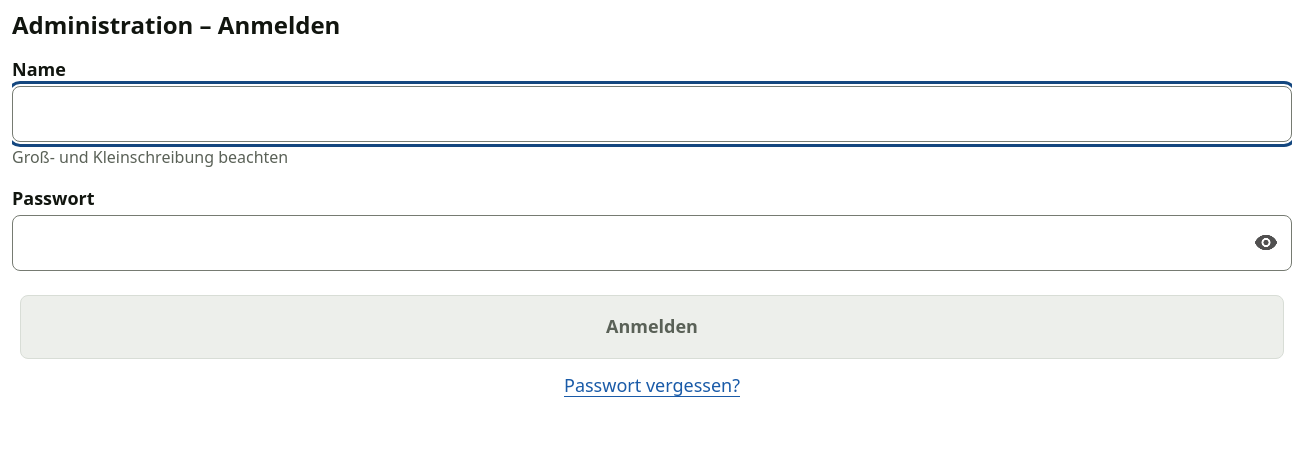
Test: AdminAnmeldung › Fehler › 401 ADMIN_PASSWORT_FALSCH: Text im Kasten, Passwort leer, Name bleibt, Fokus im Passwort
Type "Beispieladmin" into the field with test id "admin-name" at [652, 114], box [12, 86, 1292, 142]
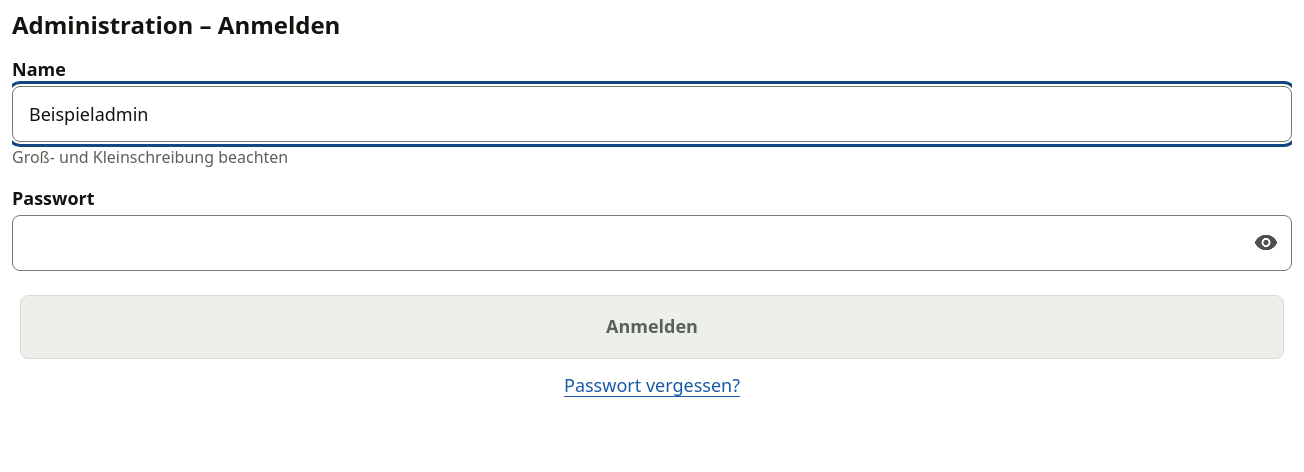
Type "falsches-passwort" into the password field with test id "admin-passwort" at [652, 243], box [12, 215, 1292, 271]
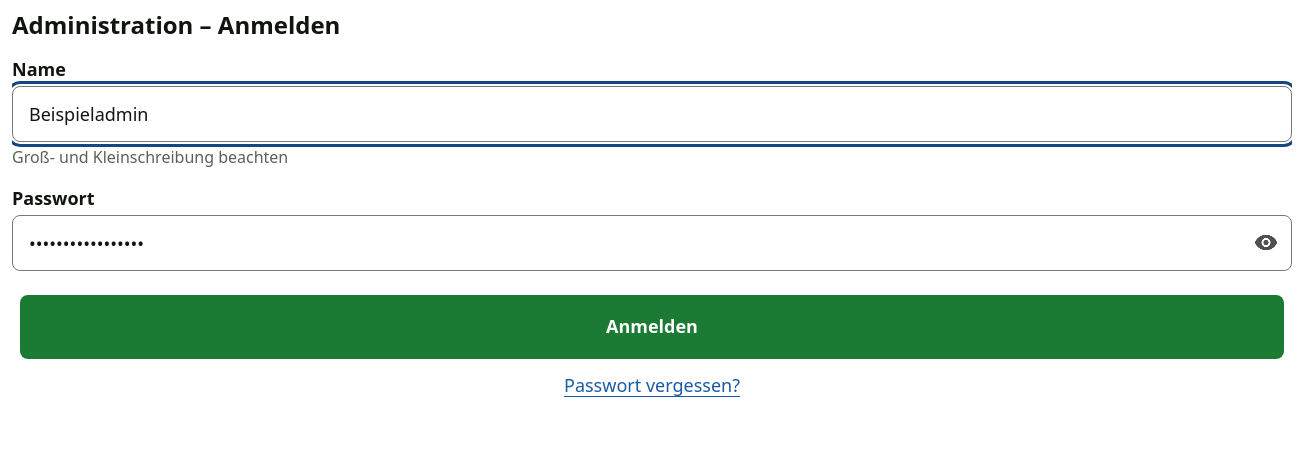
Click the button with test id "admin-absenden" at [652, 327], box [20, 295, 1284, 359]
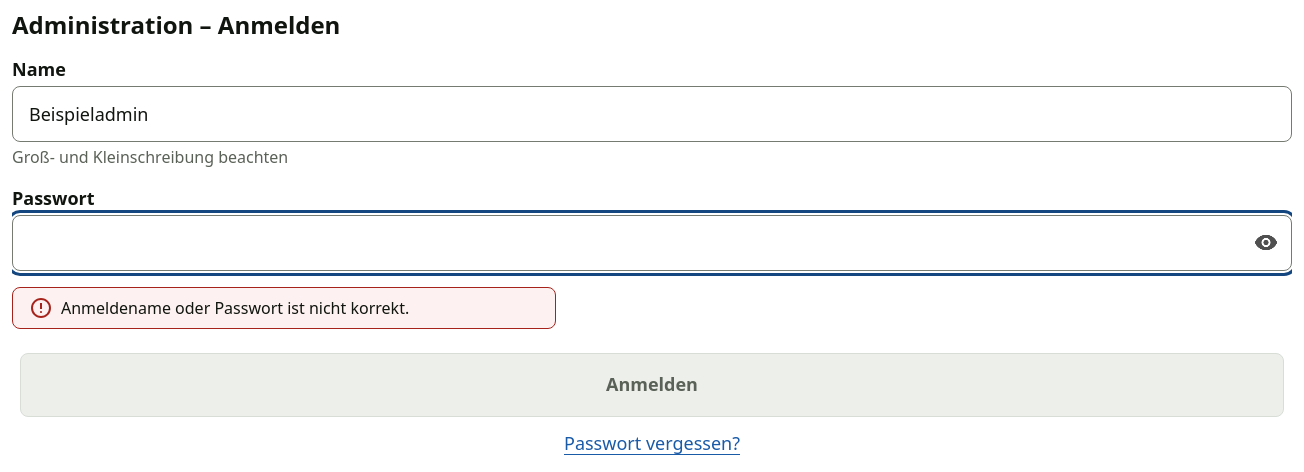
Expected: the message with test id "admin-fehler" reads "Anmeldename oder Passwort ist nicht korrekt.", [61, 297, 409, 319]
Expected: the password field with test id "admin-passwort" is empty, [12, 215, 1292, 271]
